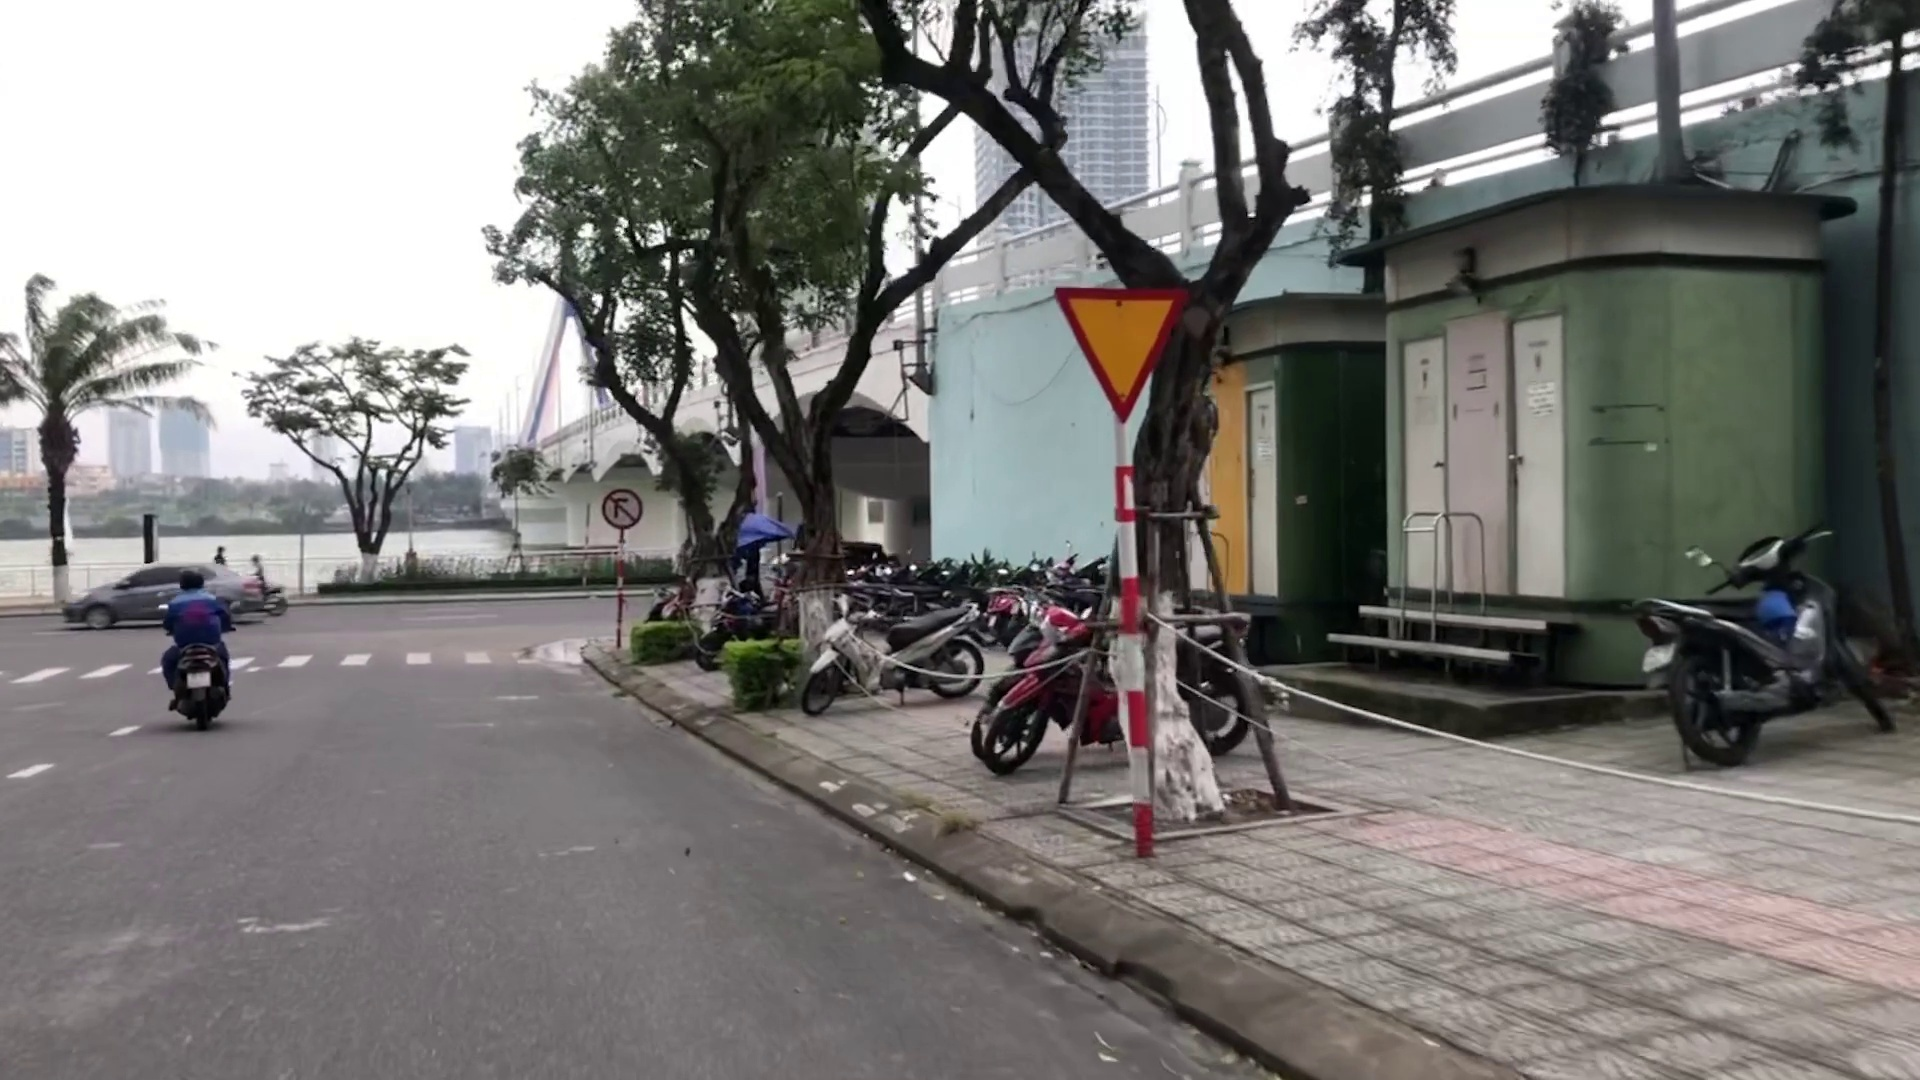Bien khac: (1048, 281, 1192, 423), (599, 487, 641, 531)
